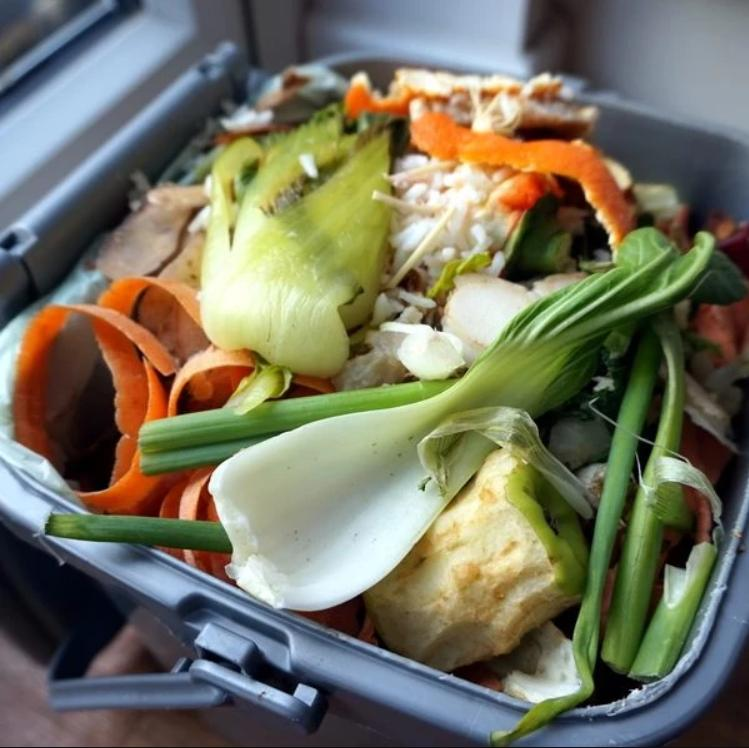organic: (197, 223, 718, 681), (365, 408, 586, 691), (201, 106, 390, 375), (12, 277, 206, 489), (409, 99, 632, 246), (603, 542, 715, 678)
